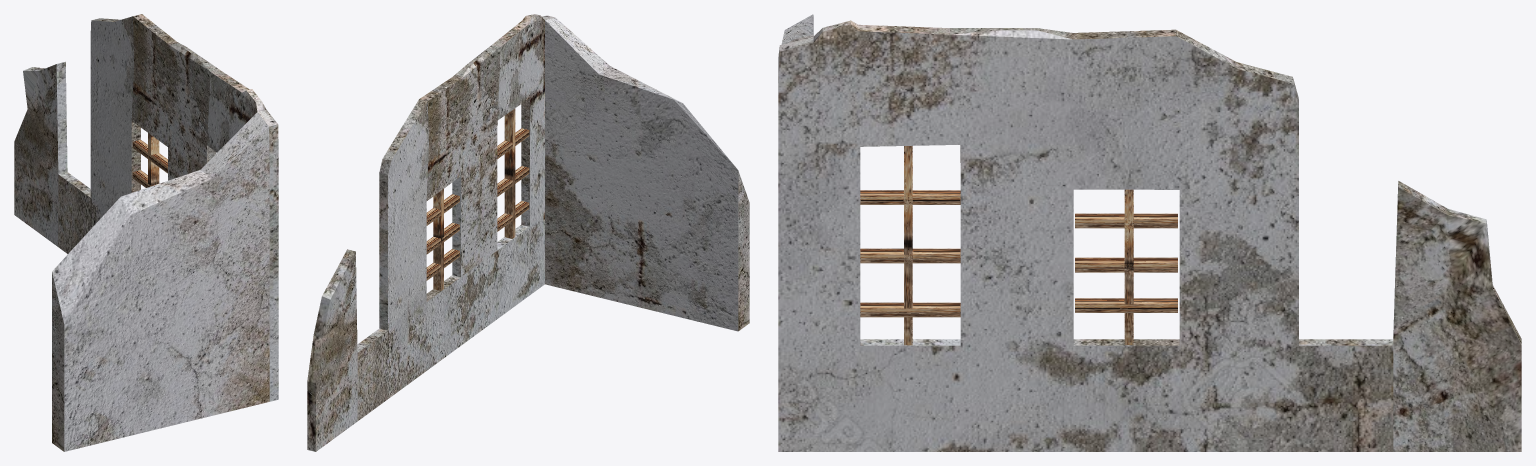
Rendered from house6.fbx.
3 views of the same model, side by side, from view 1: azimuth 30°, elevation 25°; view 2: azimuth 150°, elevation 25°; view 3: azimuth 270°, elevation 25° (orthographic). The views are drawn at different scales.
Visible parts, largest first — view 1: house7, house7.002; view 2: house7, house7.001, house7.002; view 3: house7, house7.001, house7.002.
Boxes of the visible parts, <box> form: house7: <box>14,14,278,451</box>; house7.002: <box>132,133,167,187</box>; house7: <box>307,14,749,451</box>; house7.001: <box>497,108,529,238</box>; house7.002: <box>426,189,459,290</box>; house7: <box>778,14,1521,451</box>; house7.001: <box>860,146,960,345</box>; house7.002: <box>1075,189,1177,344</box>.
Size of the model in its own units: 625 by 803 by 1269.
